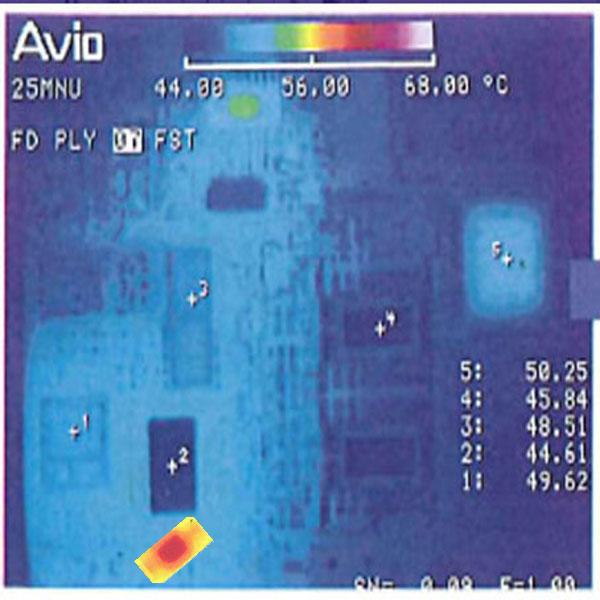componente_T: (132, 514, 217, 586), (284, 22, 366, 52)
